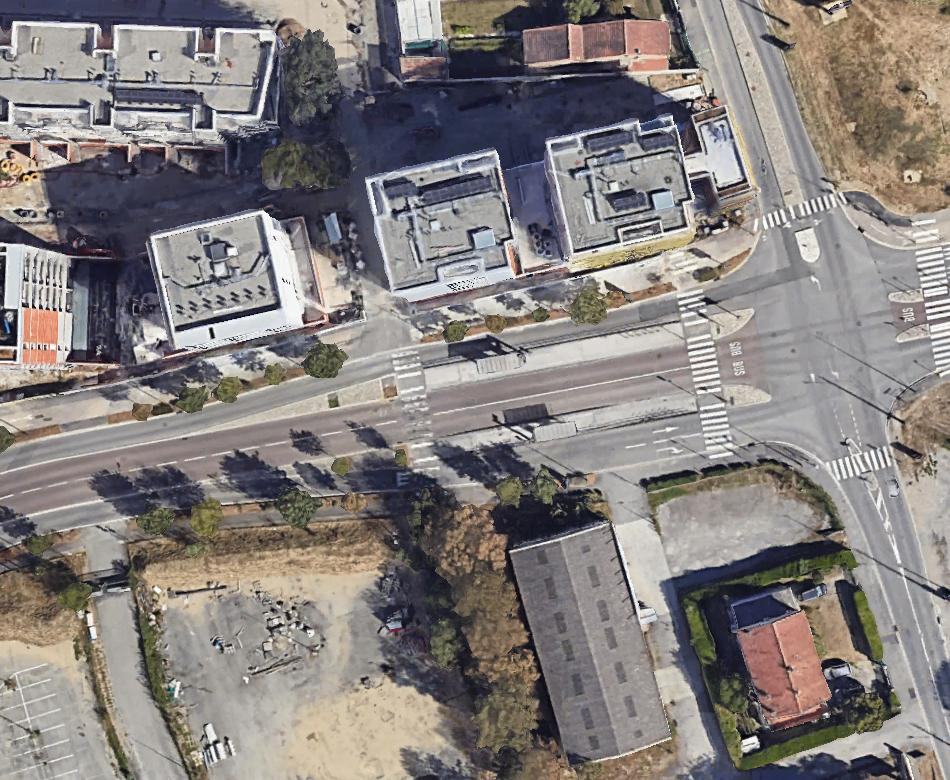immeuble: (507, 519, 672, 770), (0, 21, 280, 161), (539, 111, 702, 270), (144, 202, 311, 357), (363, 148, 525, 307), (0, 244, 71, 366)
maison: (737, 611, 836, 733), (523, 19, 670, 71)
